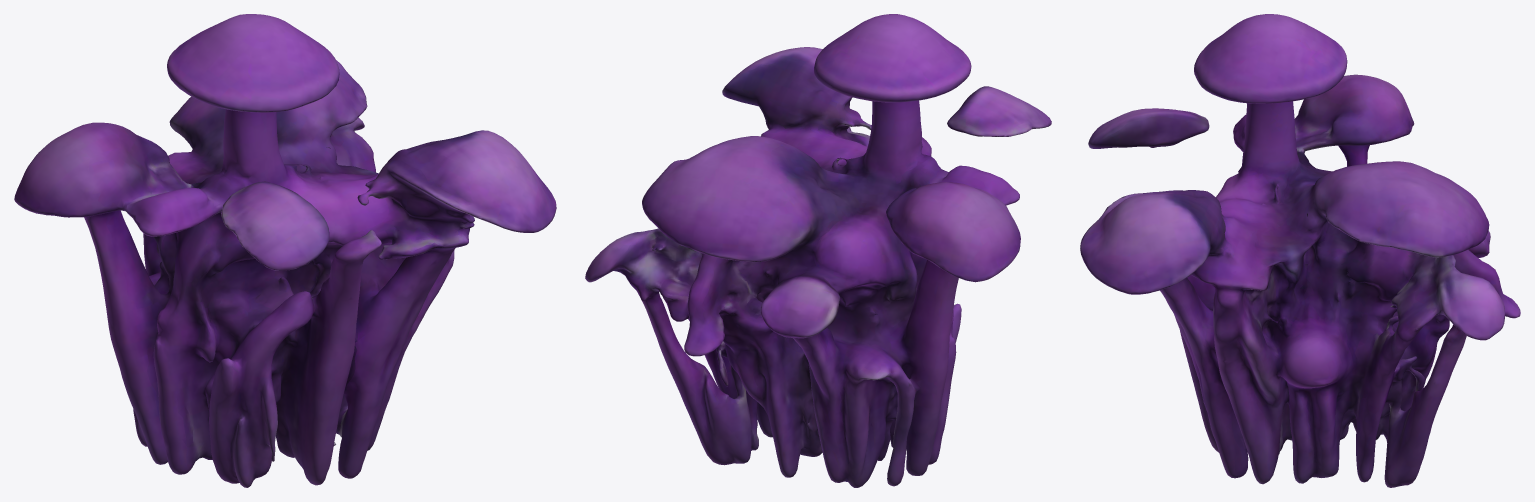
File: ff6bea95f1e8_bunch_of_violet_mus.fbx
3 renders of one model, left to right at view 1: azimuth 30°, elevation 25°; view 2: azimuth 150°, elevation 25°; view 3: azimuth 270°, elevation 25°, orthographic. The views are drawn at different scales.
Parts seen in each view (by area): view 1: high_poly; view 2: high_poly; view 3: high_poly.
Part boxes in pixels (x1,y1,x2,y2): high_poly: (14, 14, 556, 487); high_poly: (585, 14, 1051, 487); high_poly: (1080, 14, 1520, 487).
Size of the model in its own units: 93.04 by 100 by 94.49.
